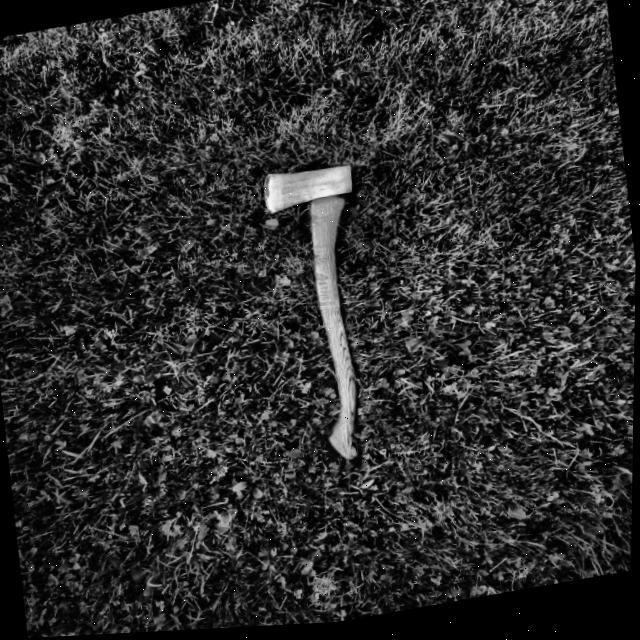kapak: (244, 142, 401, 487)
